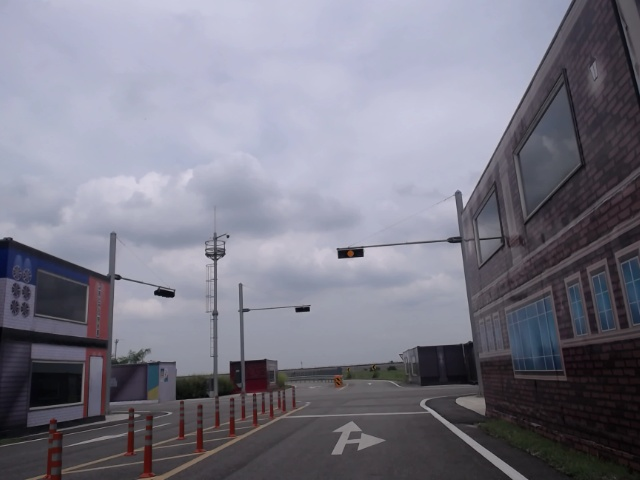orange_3: (338, 248, 363, 259)
